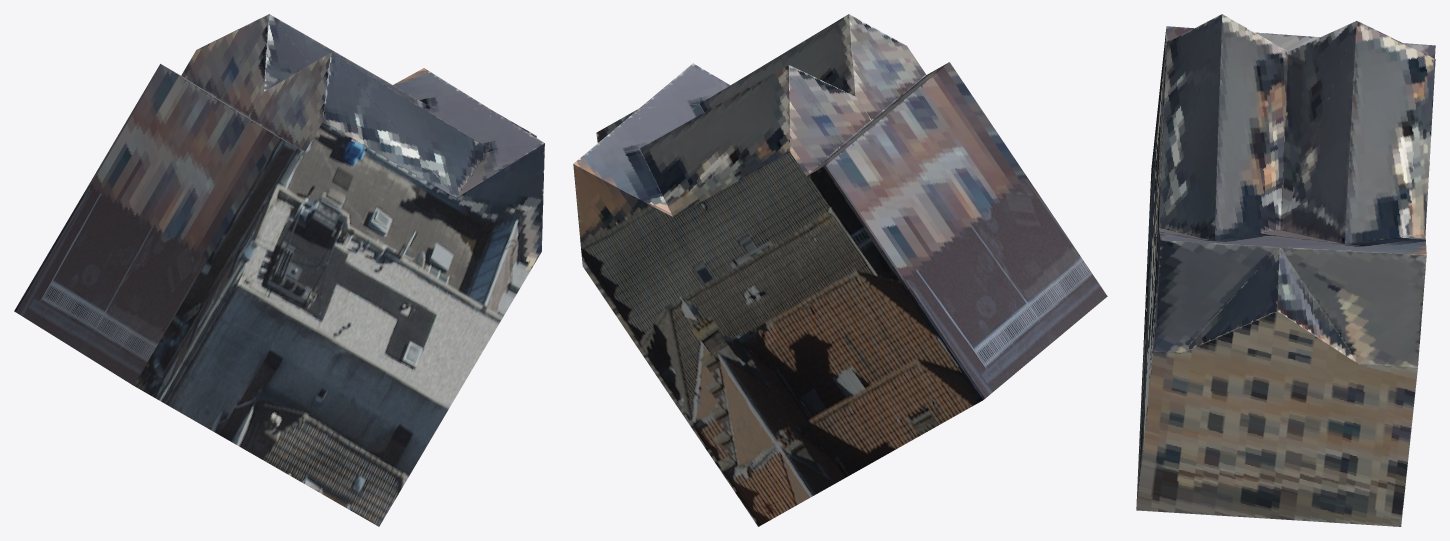
The picture shows the model from 3 angles, left to right: view 1: azimuth 30°, elevation 25°; view 2: azimuth 150°, elevation 25°; view 3: azimuth 270°, elevation 25°; orthographic projection. The views are drawn at different scales.
Visible parts, largest first — view 1: BAG_0599100000767277 (×5); view 2: BAG_0599100000767277 (×5); view 3: BAG_0599100000767277 (×5).
Boxes of the visible parts, x1,y1,x2,y2 form: BAG_0599100000767277 (×5): [14, 14, 544, 526]; BAG_0599100000767277 (×5): [573, 14, 1107, 526]; BAG_0599100000767277 (×5): [1136, 14, 1435, 526].
Bounding box in the file's own units: 24.52 × 23.53 × 12.58.
Materials: 5 (5 with a texture image).
